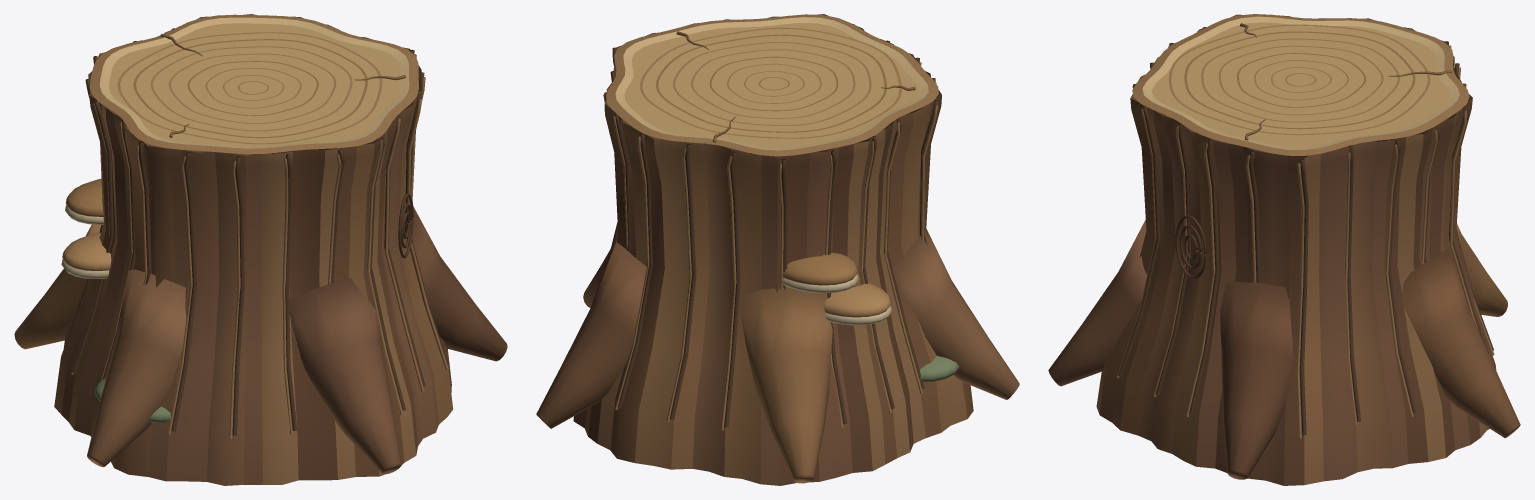
The model's file is tree-stump.glb.
3 renders of one model, left to right at view 1: azimuth 30°, elevation 25°; view 2: azimuth 150°, elevation 25°; view 3: azimuth 270°, elevation 25°, orthographic.
Parts seen in each view (by area): view 1: tree-stump_Discovery_Mesh; view 2: tree-stump_Discovery_Mesh; view 3: tree-stump_Discovery_Mesh.
Boxes of the visible parts, left/top/right/bottom form: tree-stump_Discovery_Mesh: left=14, top=14, right=507, bottom=485; tree-stump_Discovery_Mesh: left=536, top=14, right=1019, bottom=485; tree-stump_Discovery_Mesh: left=1048, top=14, right=1520, bottom=485.
Bounding box in the file's own units: 1.15 × 0.8293 × 1.12.
